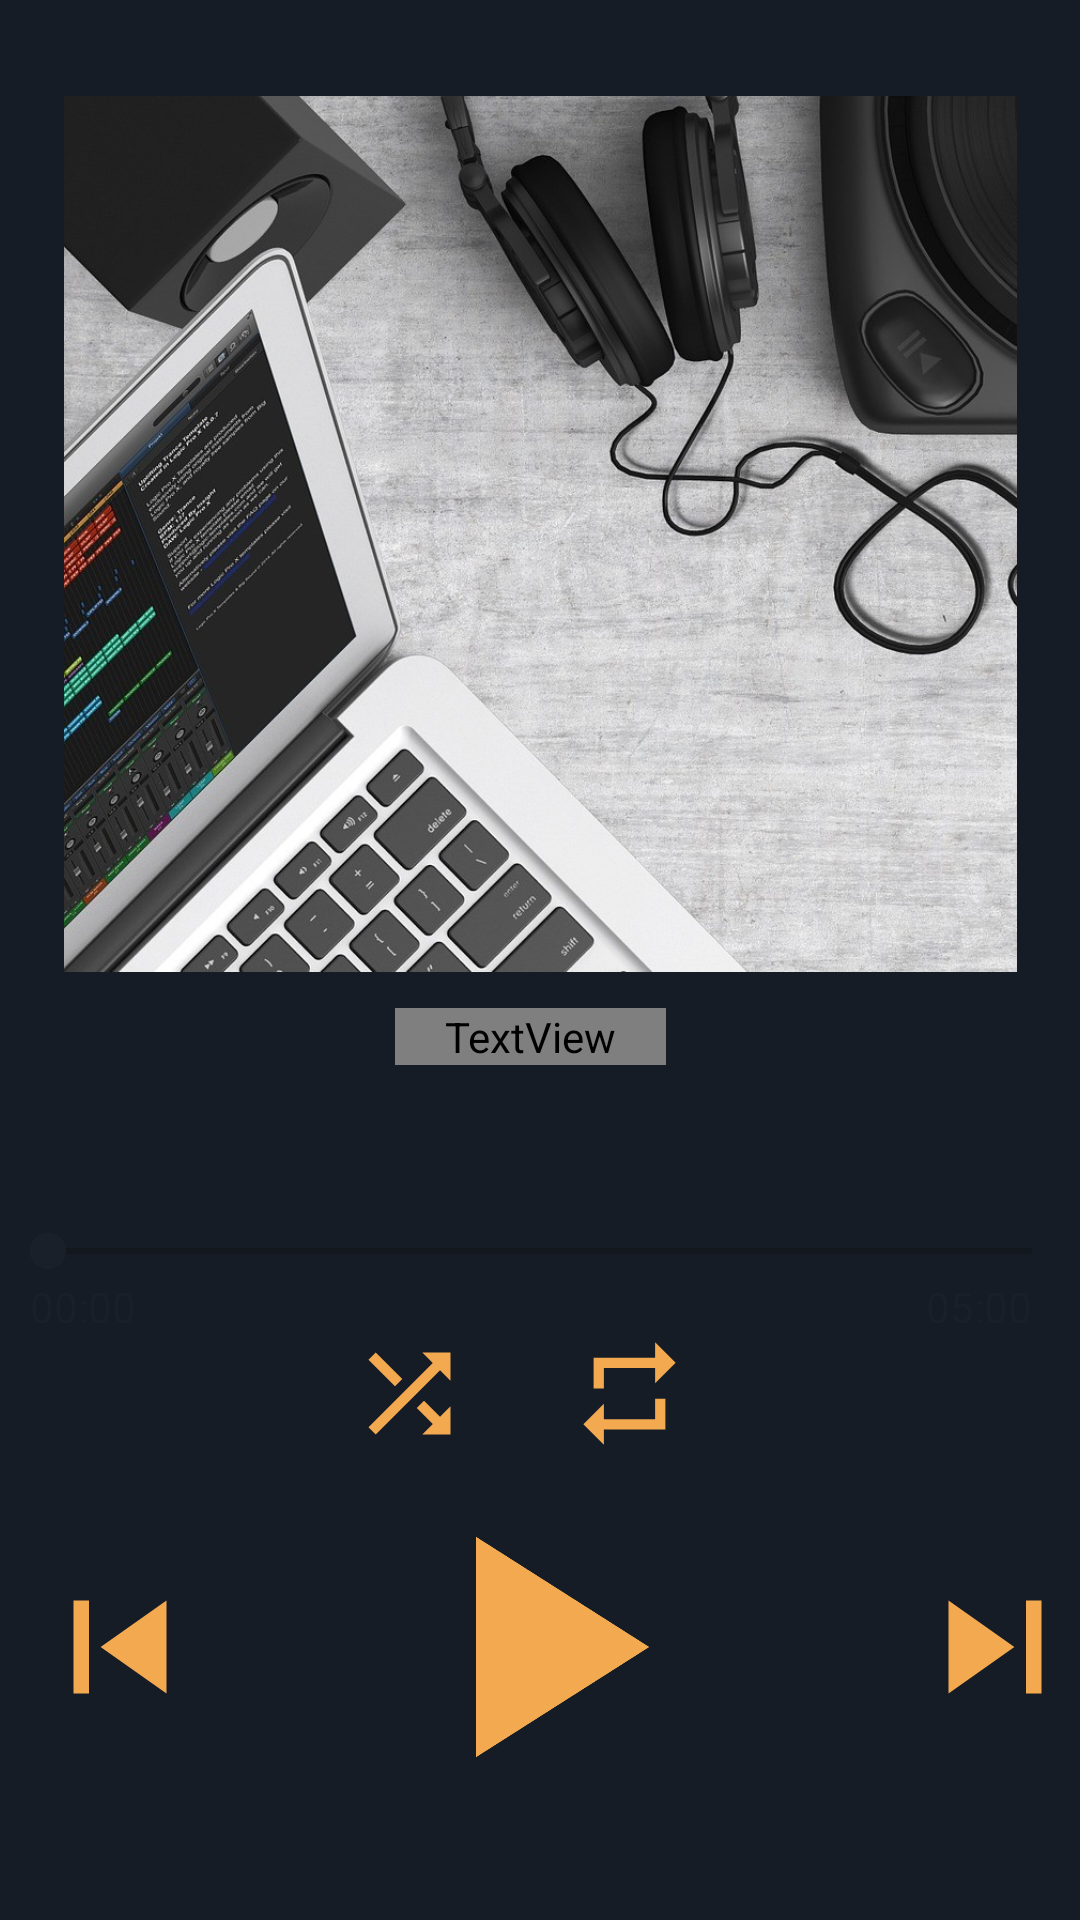

Icon bounding boxes for this 1080w x 1920h phone screenshot, format (x1, y1, x2, y2):
play arrow: (476, 1537, 649, 1757)
repeat: (583, 1342, 676, 1445)
shuffle: (368, 1352, 451, 1435)
